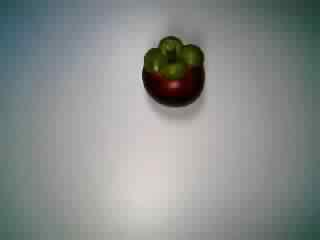mangosteen: (129, 33, 215, 107)
